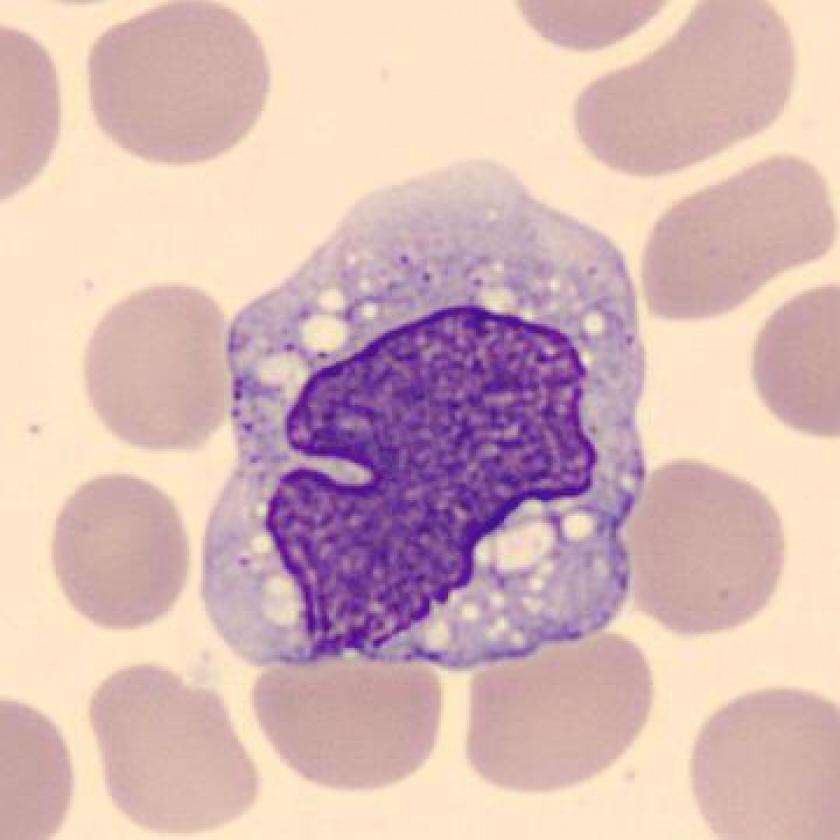monocyte: (178, 142, 673, 695)
